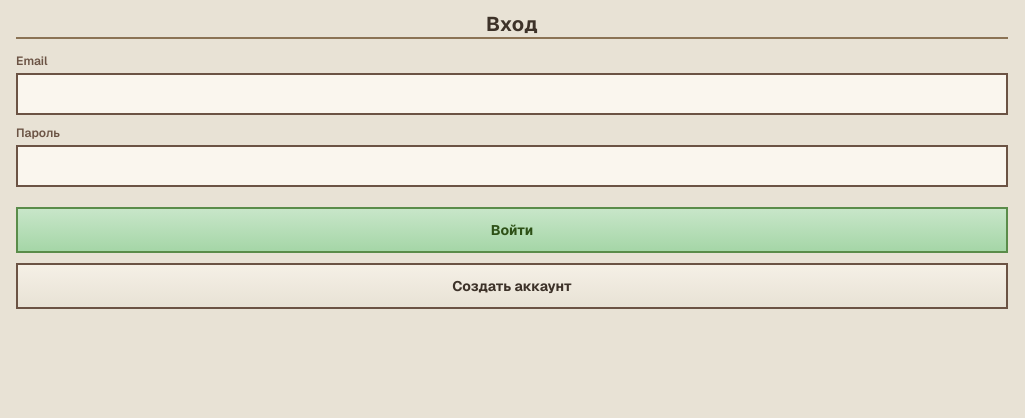
Test case: LoginView › показывает ошибку при слишком длинном имени
Click the button "Создать аккаунт": (512, 286) [16,263,1008,309]
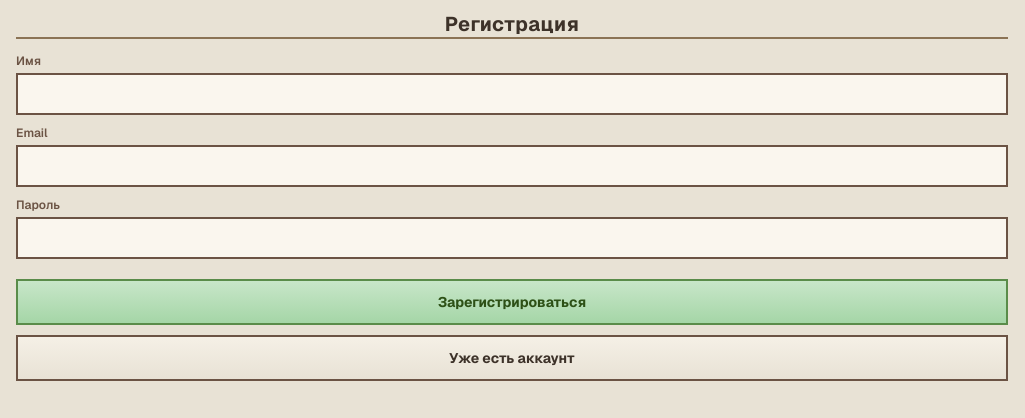
In the field labelled "Имя": (512, 94) [16,73,1008,115], type "ThisNameIsTooLongForValidation"
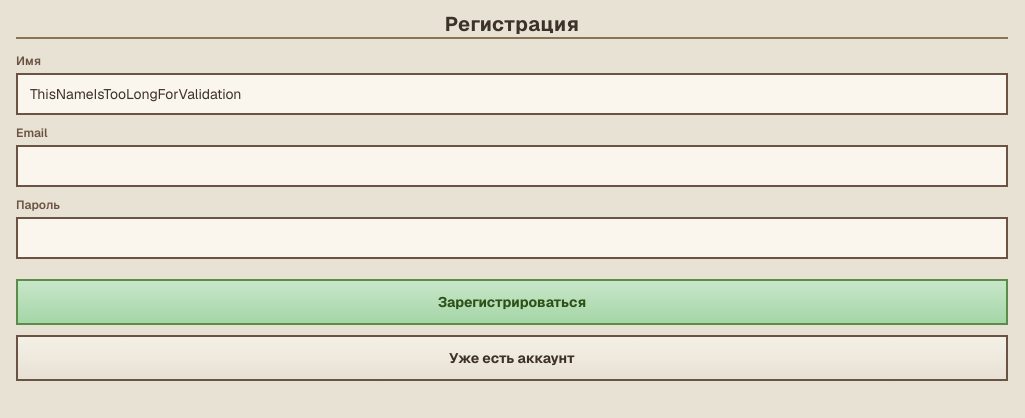
Leave the field labelled "Имя", box [16,73,1008,115]
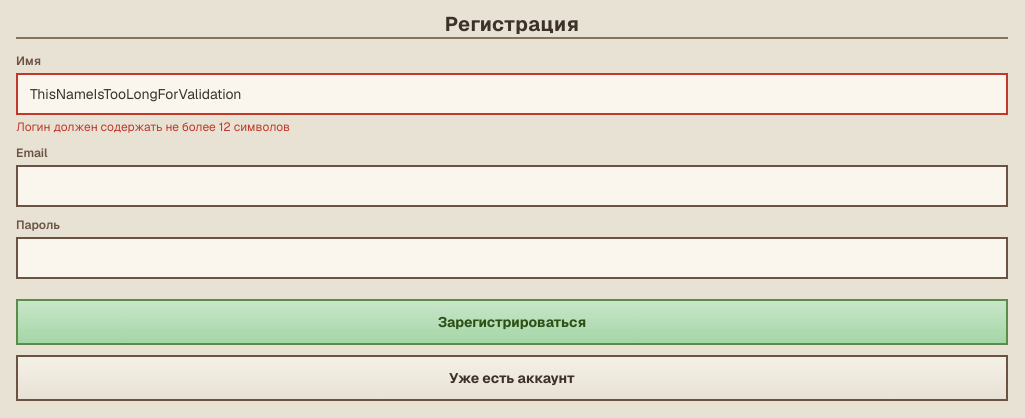
expect the text "Логин должен содержать не более 12 символов" is shown: met, box [16,119,290,135]
